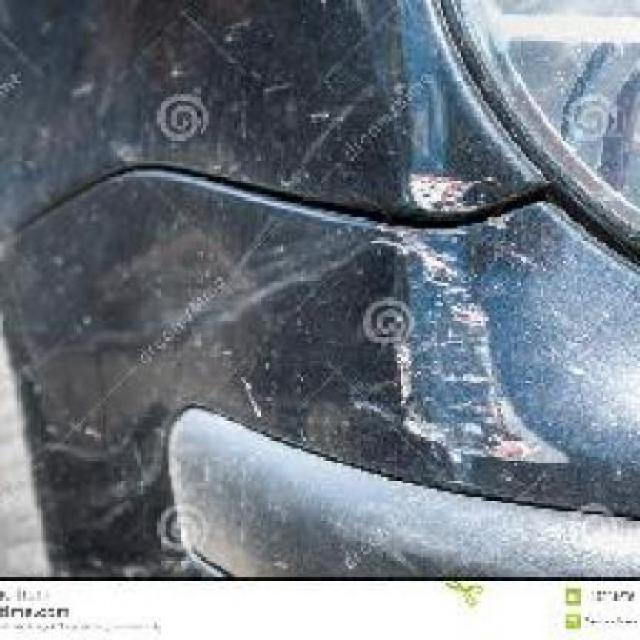dent-or-scratch: (372, 170, 560, 472)
